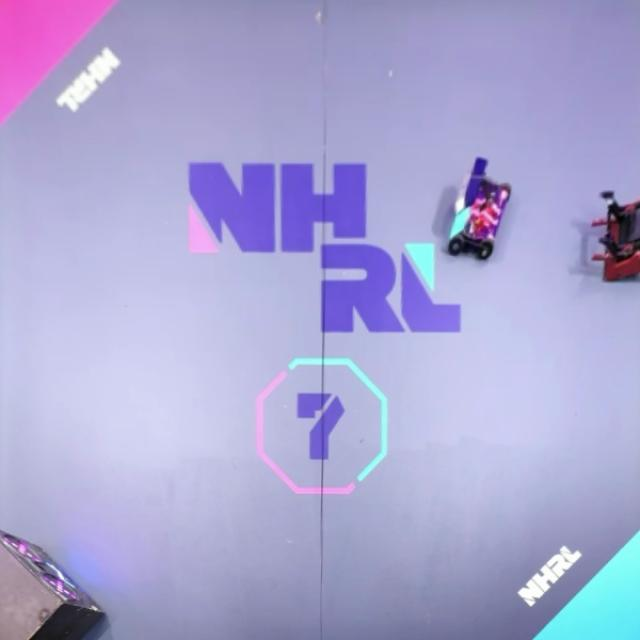housebot: (0, 526, 103, 640)
robot: (447, 156, 513, 260), (591, 189, 640, 282)
